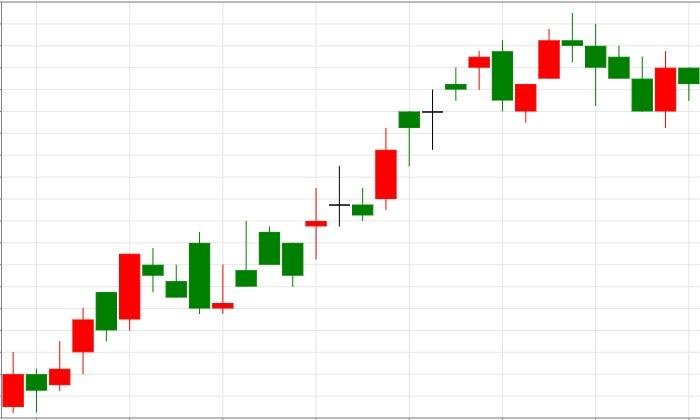bearish_engulfing_fall: (375, 41, 513, 209)
bullish_engulfing_rise: (562, 13, 677, 129)
